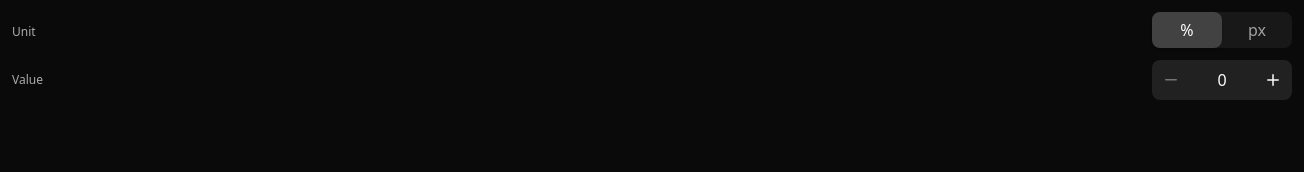
Test: Count component › should clamp to 100 if unit is % and input > 100
Replace the text in the field with "101": coordinates (1222, 80) [1189, 61, 1255, 99]
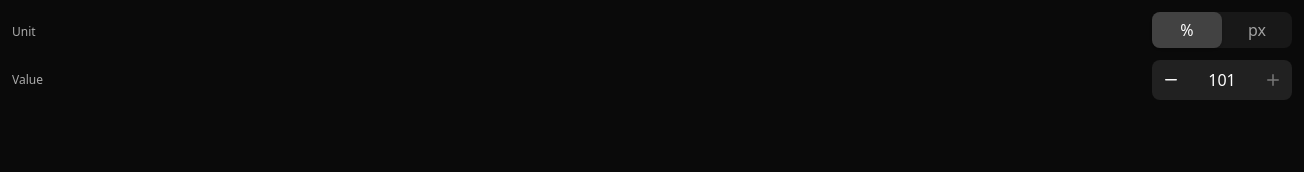
Leave the field, box [1189, 61, 1255, 99]
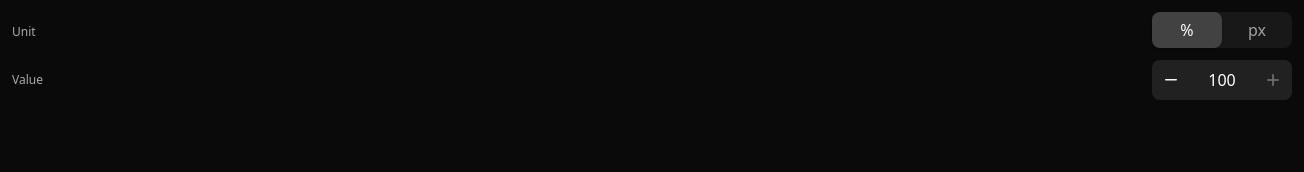
Result: the field holds "100"
Replace the text in the field with "120": coordinates (1222, 80) [1189, 61, 1255, 99]
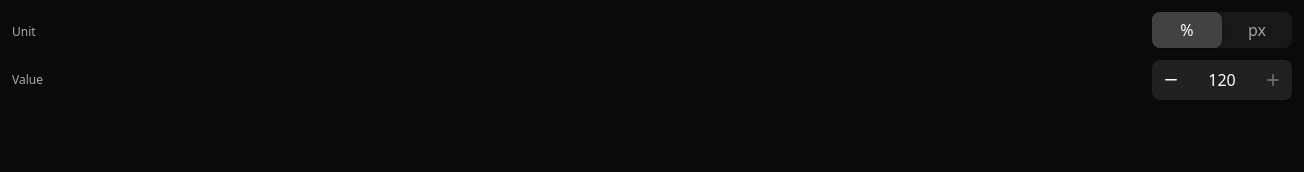
Click the button "px": coordinates (1257, 30) [1222, 12, 1292, 48]
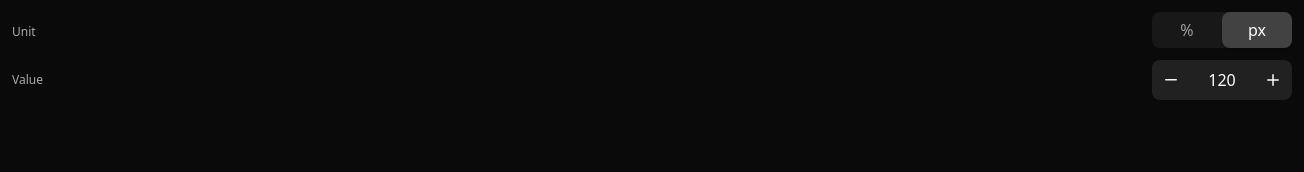
Click the button "%": coordinates (1187, 30) [1152, 12, 1222, 48]
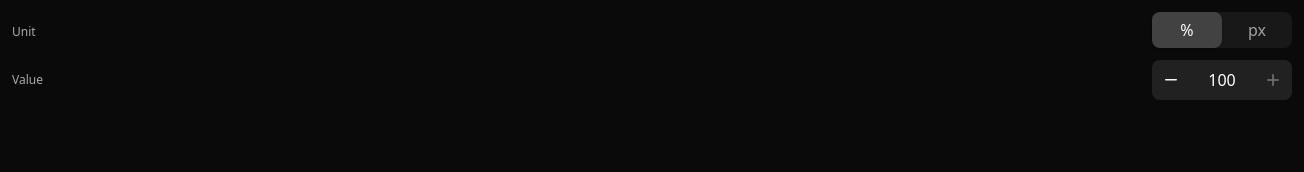
Result: the field holds "100" at [1189, 61, 1255, 99]
